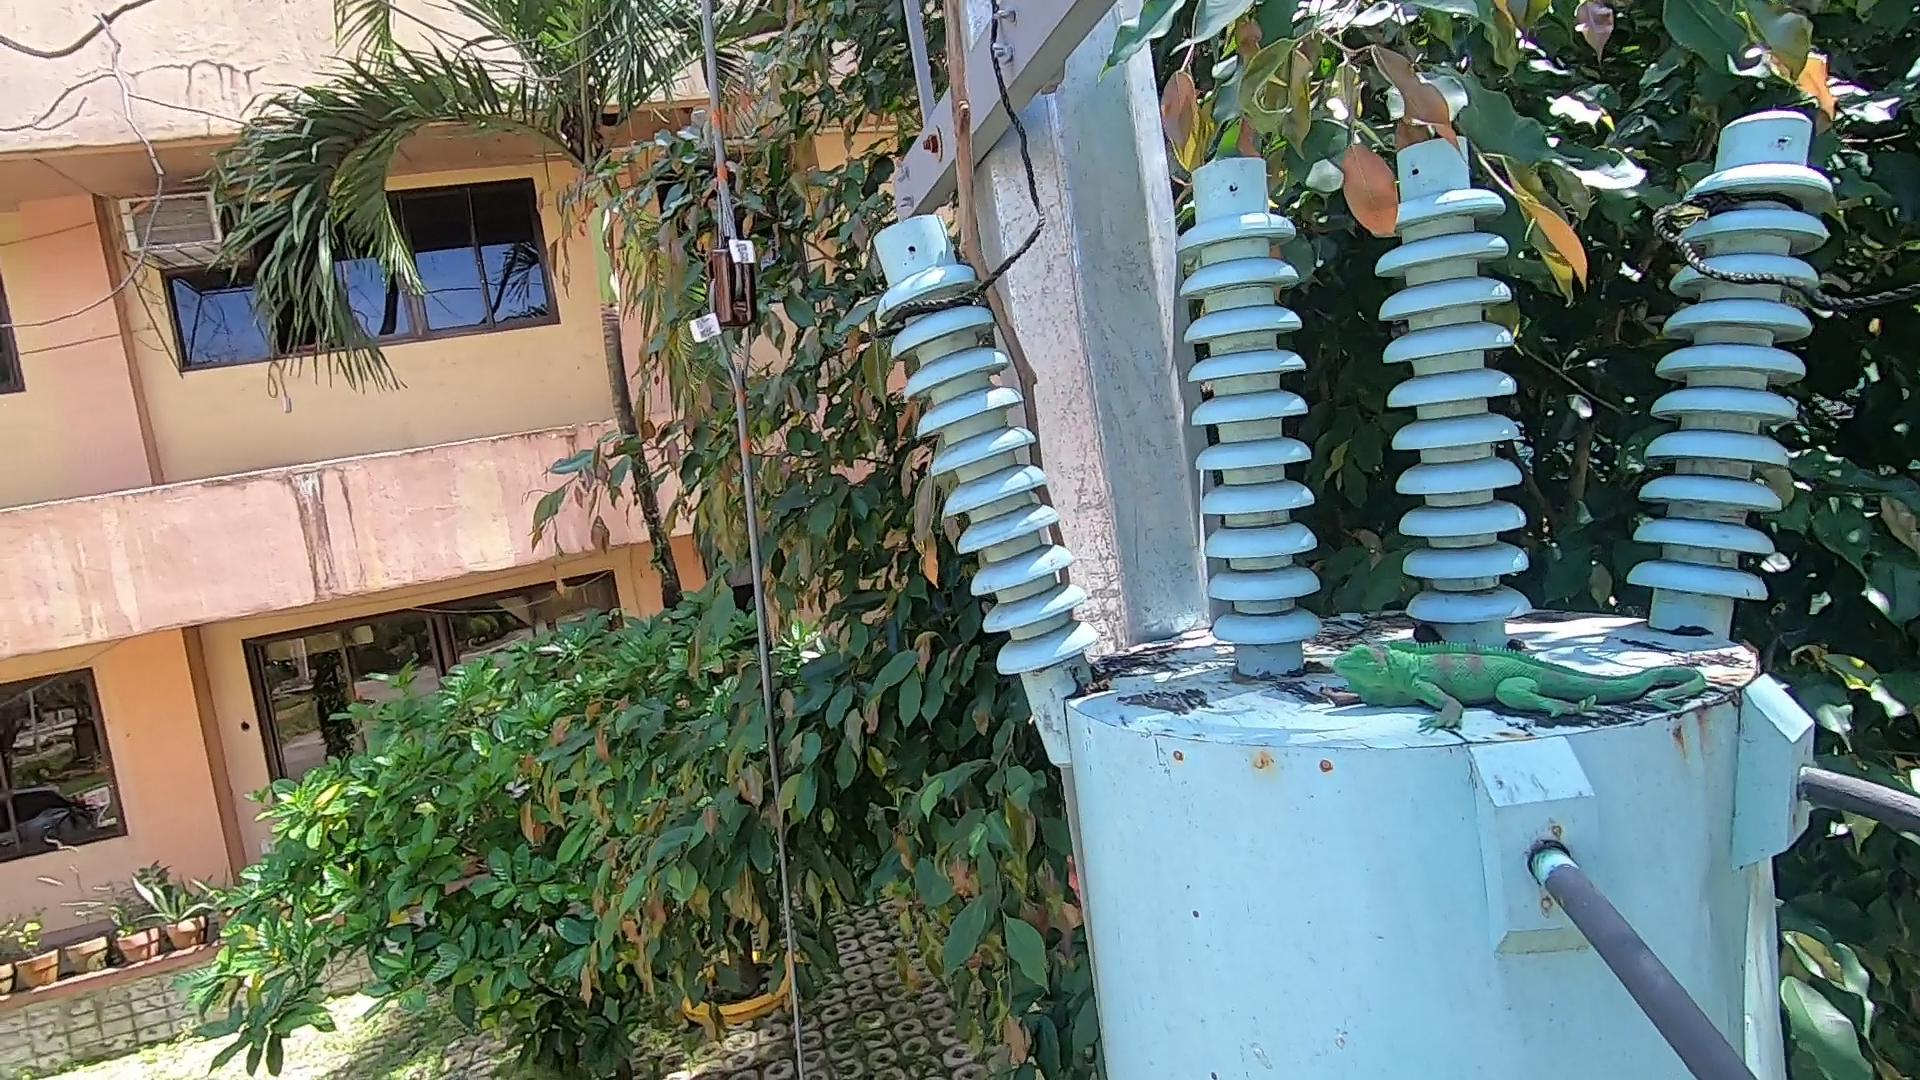branch with leaves: (1309, 78, 1627, 320)
leaf: (1292, 675, 1367, 723), (1065, 673, 1122, 712), (1361, 609, 1427, 634), (1410, 625, 1449, 655)
tree branch: (922, 7, 1156, 647)
